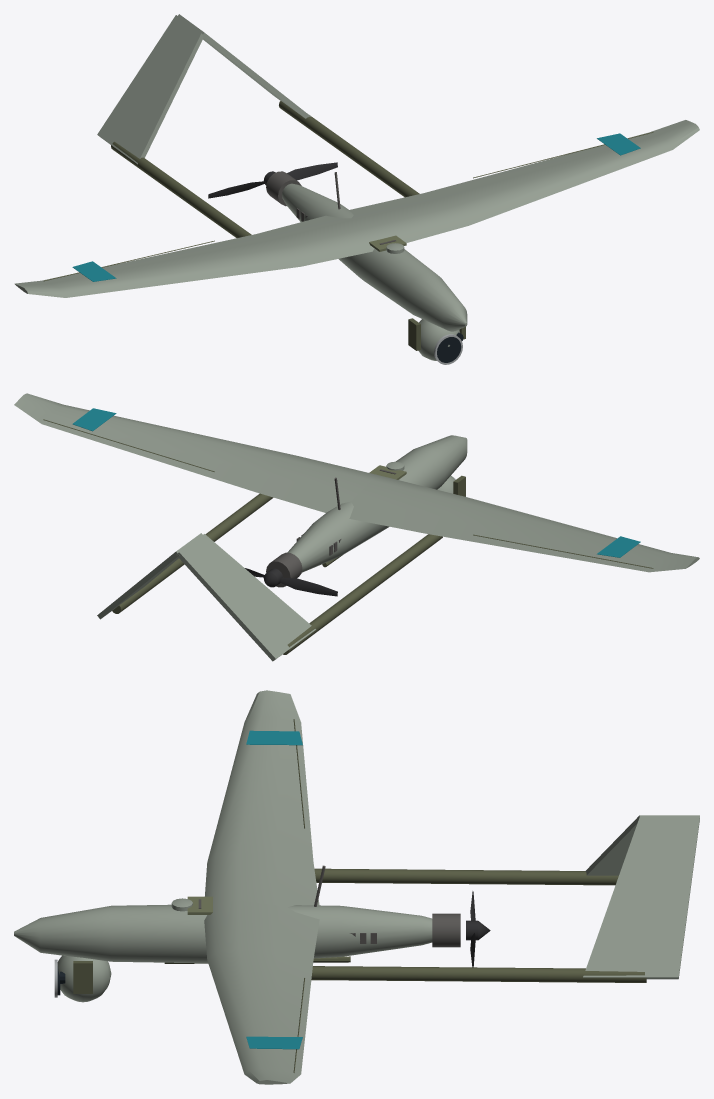
The model's file is Drone_Recon.fbx.
The picture shows the model from 3 angles, top to bottom: view 1: azimuth 30°, elevation 25°; view 2: azimuth 150°, elevation 25°; view 3: azimuth 270°, elevation 25°; orthographic projection. The views are drawn at different scales.
Parts seen in each view (by area): view 1: Drone_Recon_LOD0, Prop_0_LOD0; view 2: Drone_Recon_LOD0, Prop_0_LOD0; view 3: Drone_Recon_LOD0, Prop_0_LOD0.
Boxes of the visible parts, x1=… form: Drone_Recon_LOD0: x1=14, y1=14, x2=699, y2=364; Prop_0_LOD0: x1=208, y1=162, x2=337, y2=198; Drone_Recon_LOD0: x1=14, y1=393, x2=699, y2=661; Prop_0_LOD0: x1=245, y1=568, x2=337, y2=596; Drone_Recon_LOD0: x1=14, y1=690, x2=699, y2=1084; Prop_0_LOD0: x1=466, y1=891, x2=490, y2=967.
Size of what is drawn, in the model's own units: 5.2 by 1.14 by 3.87.
